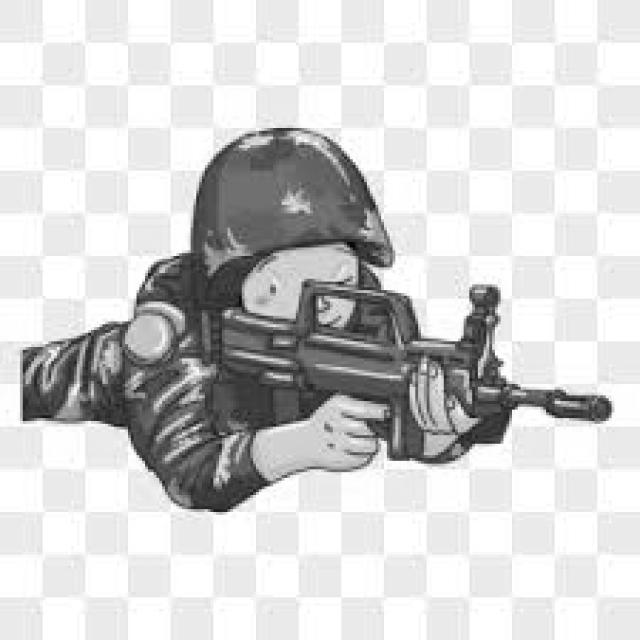gun: (199, 276, 612, 461)
